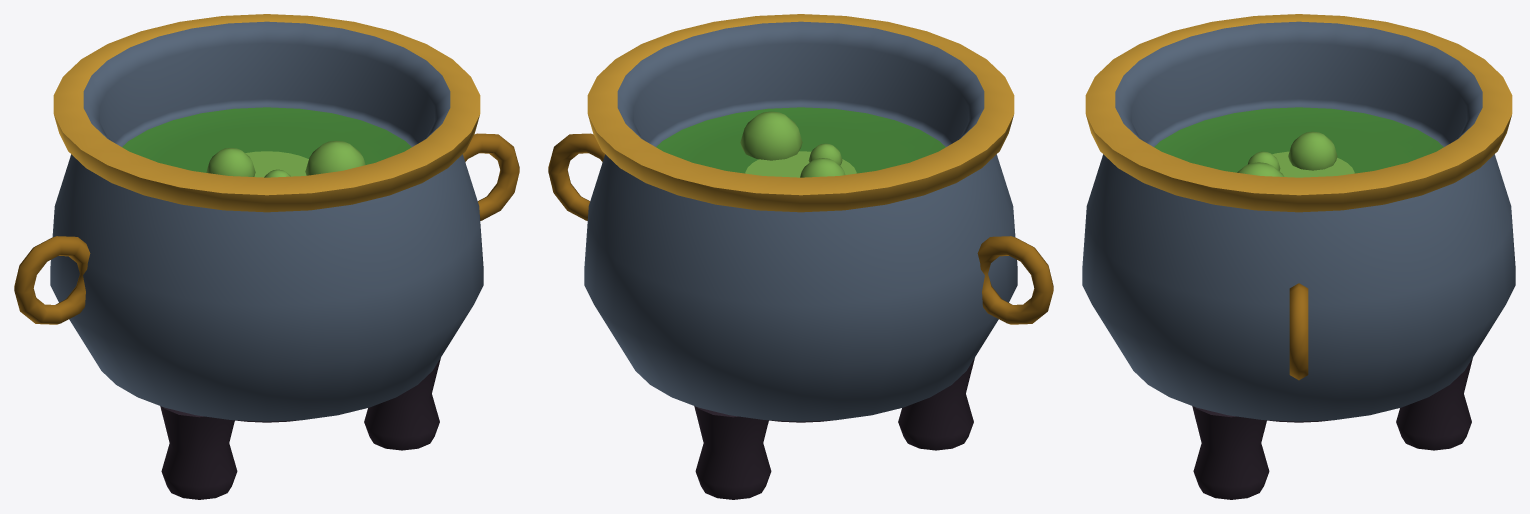
The model's file is Cauldron_16.glb.
The picture shows the model from 3 angles, left to right: view 1: azimuth 30°, elevation 25°; view 2: azimuth 150°, elevation 25°; view 3: azimuth 270°, elevation 25°; orthographic projection.
Parts seen in each view (by area): view 1: Cauldron_16; view 2: Cauldron_16; view 3: Cauldron_16.
Part boxes in pixels (x1,y1,x2,y2): Cauldron_16: [14, 14, 519, 499]; Cauldron_16: [548, 14, 1053, 499]; Cauldron_16: [1082, 14, 1515, 499].
Size of the model in its own units: 4.29 by 2.73 by 3.18.
